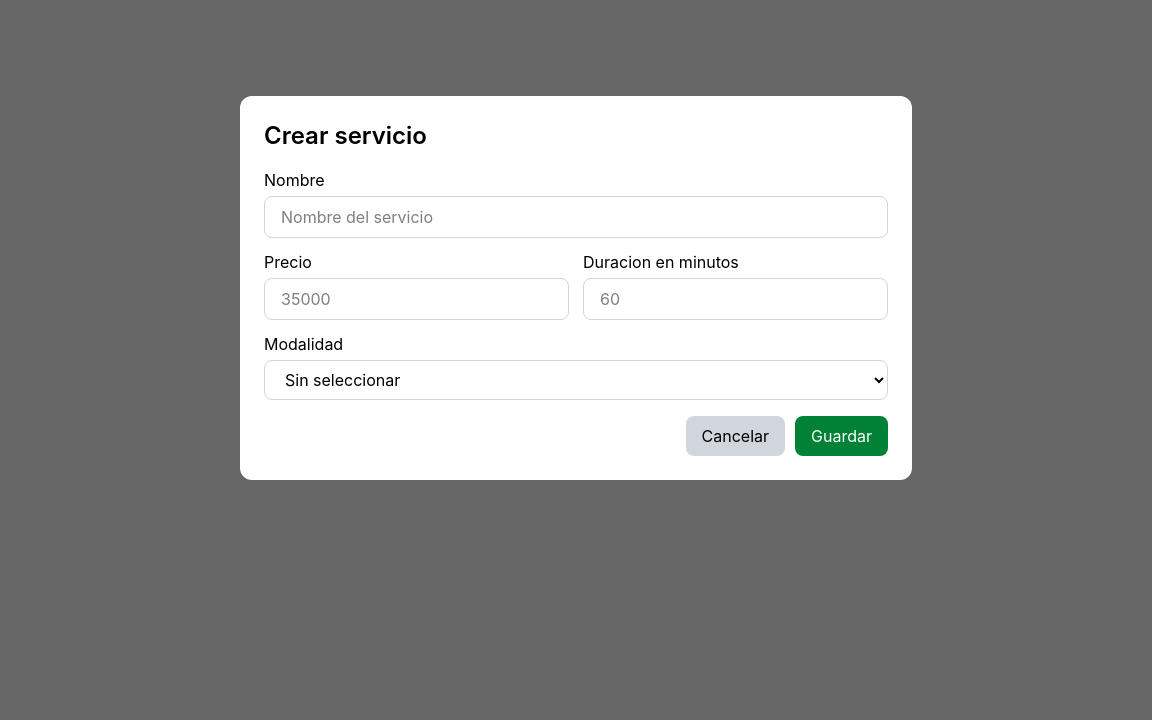
Test case: FormularioServicio › Modo creacion › muestra errores de campos obligatorios al intentar guardar con el formulario vacío
What coordinates should you click on to do the following:
click the button "Guardar"
I would click on:
 (842, 436)
Its box is [795,416,888,456].
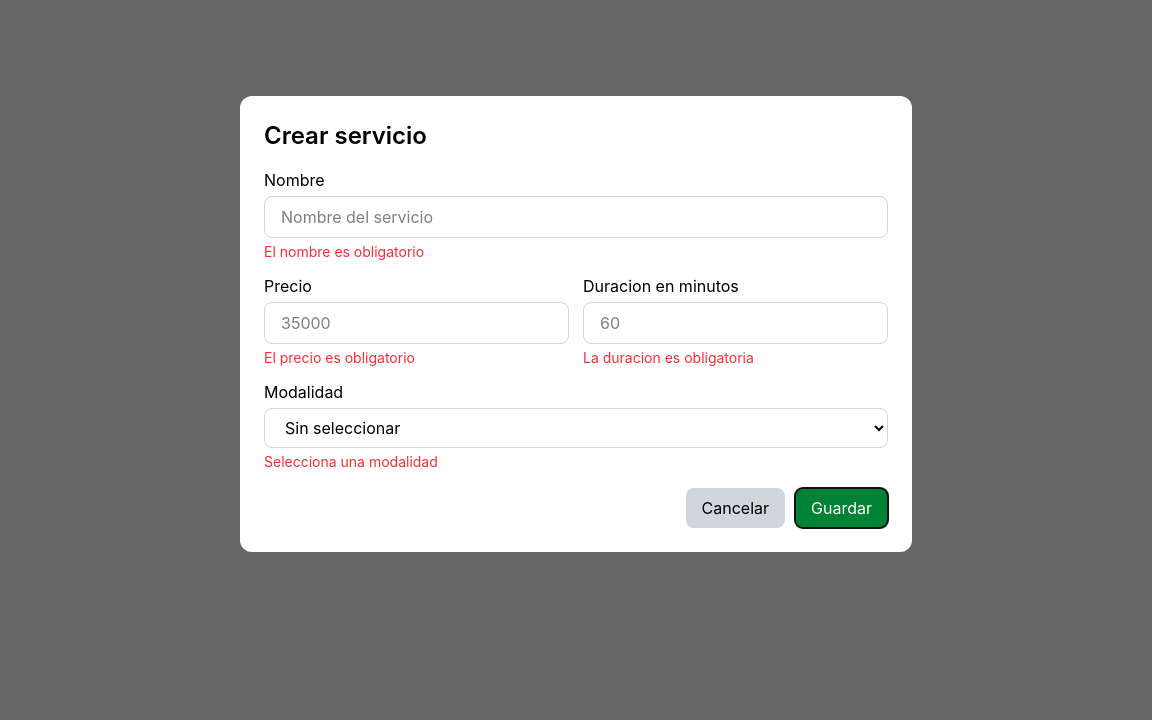
Expected: the text "El nombre es obligatorio" is shown, [264,243,424,260]
Expected: the text "El precio es obligatorio" is shown, [264,349,415,366]
Expected: the text "La duracion es obligatoria" is shown, [583,349,754,366]
